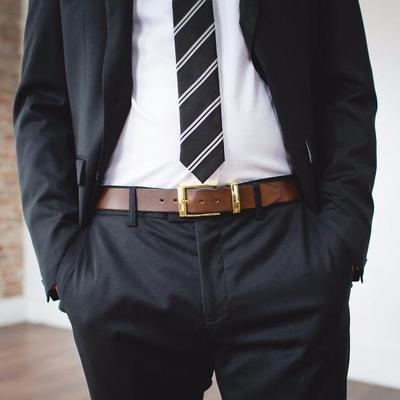F_M_suit jacket: (5, 1, 379, 293)
F_belt: (85, 173, 307, 220)
F_dress pants: (58, 220, 357, 396)
F_tie: (163, 1, 233, 181)
